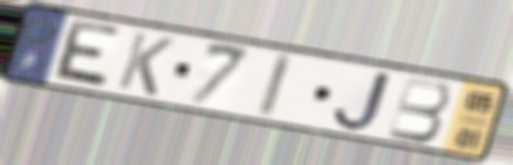7: (188, 39, 254, 110)
B: (385, 74, 452, 145)
E: (47, 17, 124, 92)
I: (254, 51, 296, 121)
J: (330, 68, 396, 133)
K: (114, 29, 177, 99)
